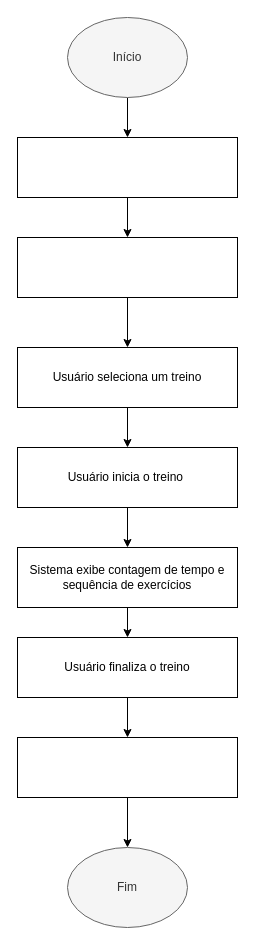
This 255x945 diagram has some shape labels left out. The centre of each missing label's shape, as x and y in pixels:
Sistema exibe a lista de treinos cadastrados: point (127, 267)
Sistema registra o treino como concluído: point (127, 767)
Usuário acessa a opção "Iniciar treino": point (127, 167)
